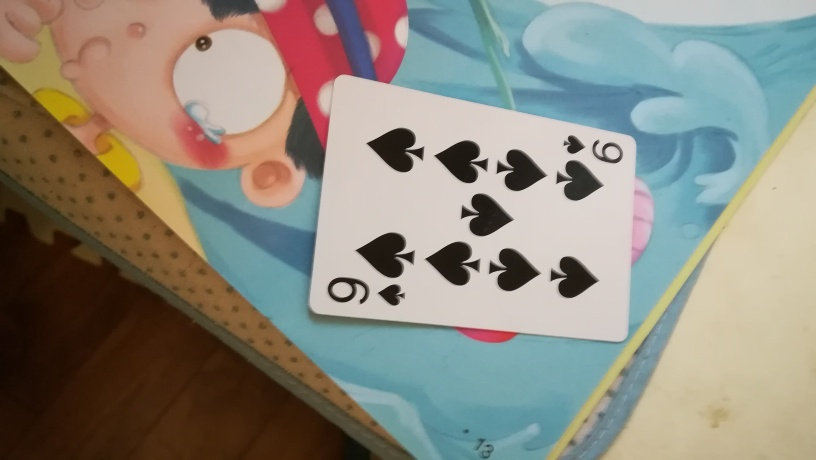ht 9: (306, 71, 638, 348)
